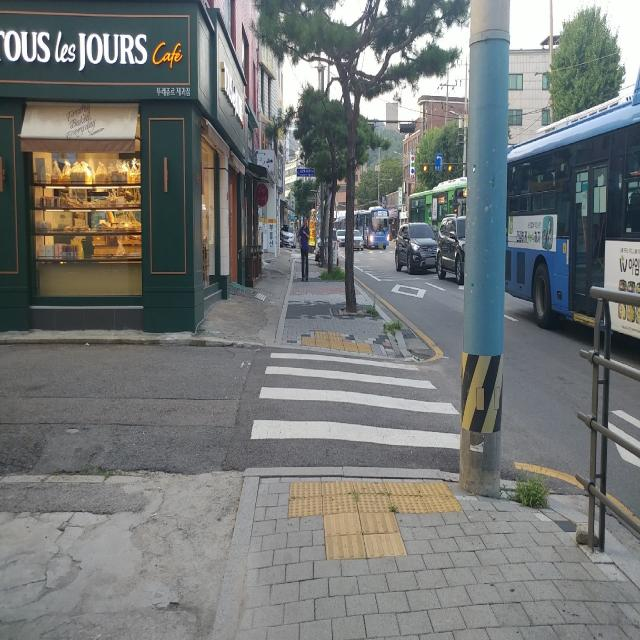횡단보도: (250, 354, 461, 449)
